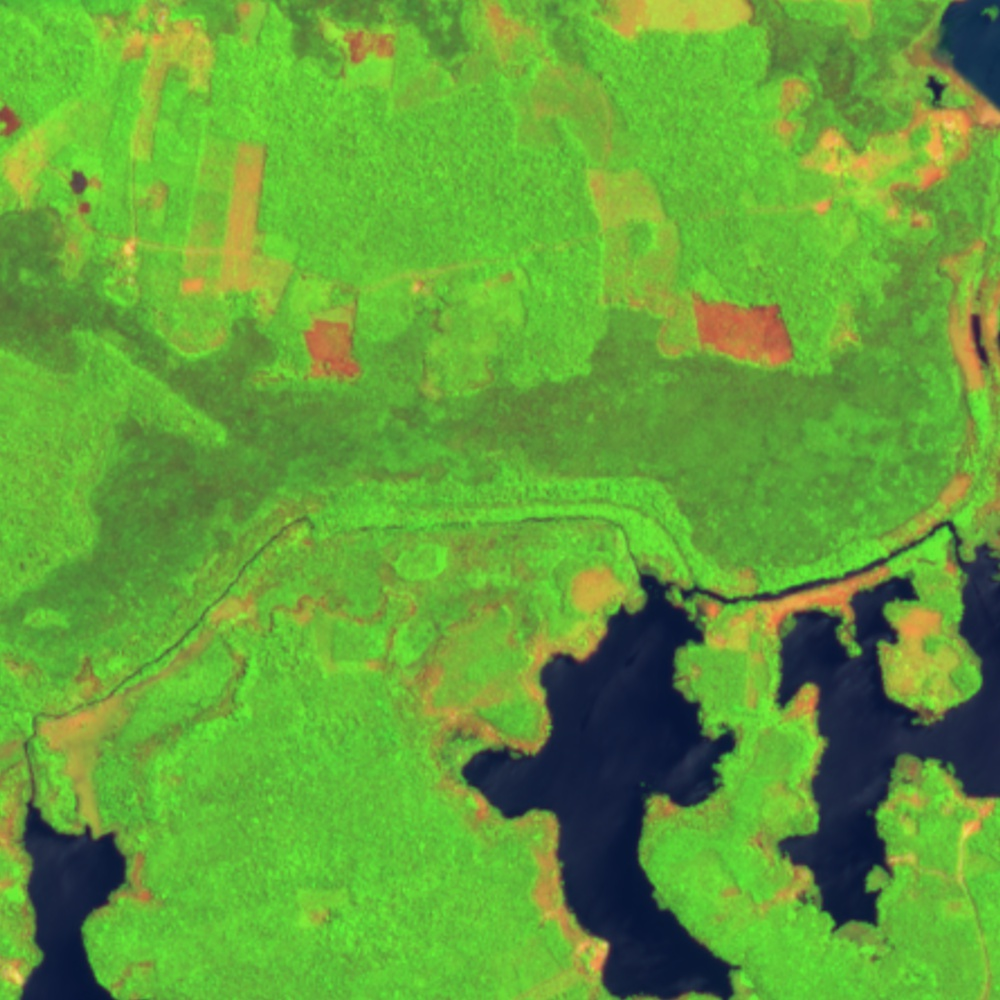legal: (574, 159, 834, 379), (771, 21, 1000, 224), (461, 564, 638, 759), (231, 1, 487, 96), (8, 680, 152, 840), (181, 124, 294, 312), (410, 245, 538, 401), (96, 4, 217, 167), (684, 564, 896, 651), (940, 231, 1000, 529), (865, 745, 992, 879), (515, 802, 611, 974), (1, 102, 103, 253), (878, 605, 973, 714), (785, 683, 845, 816), (587, 1, 776, 43), (298, 289, 372, 389), (746, 825, 822, 914), (286, 898, 350, 933), (134, 174, 170, 216)
